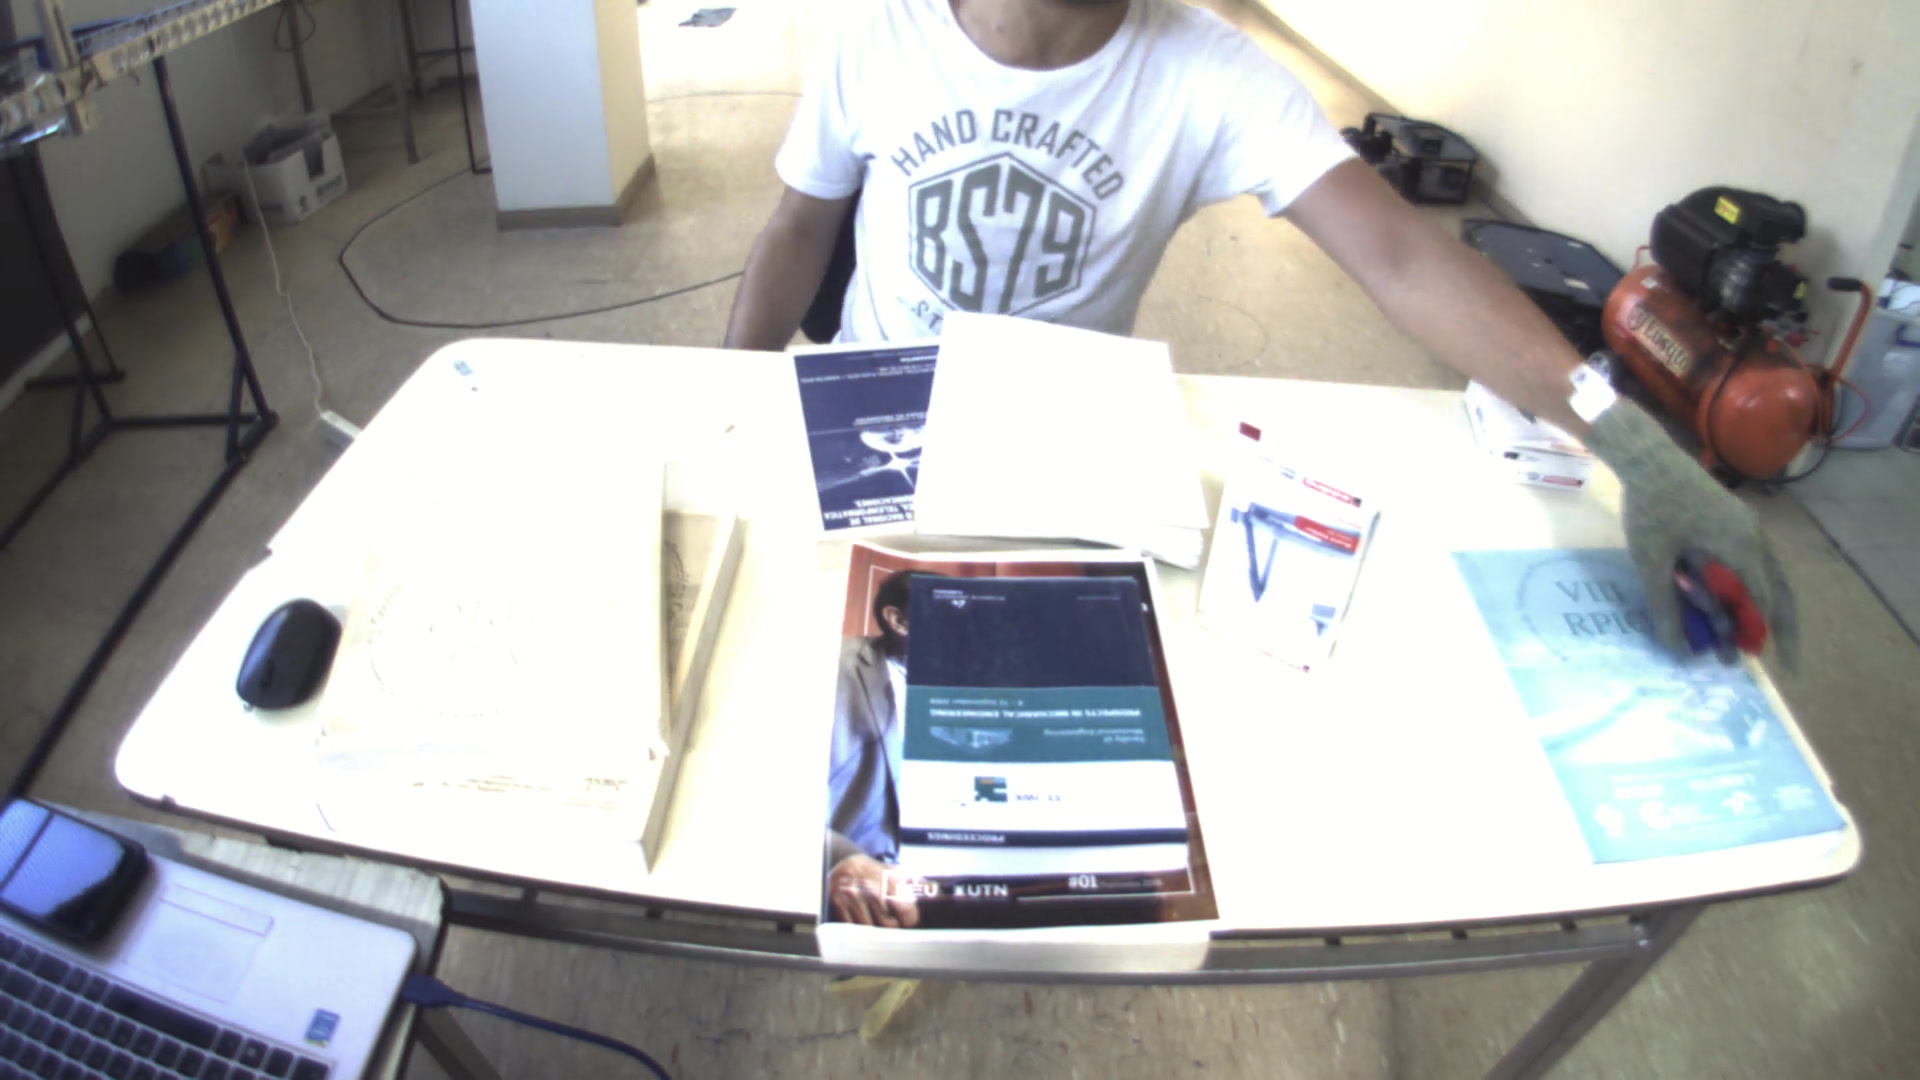hand: (1575, 396, 1785, 662)
